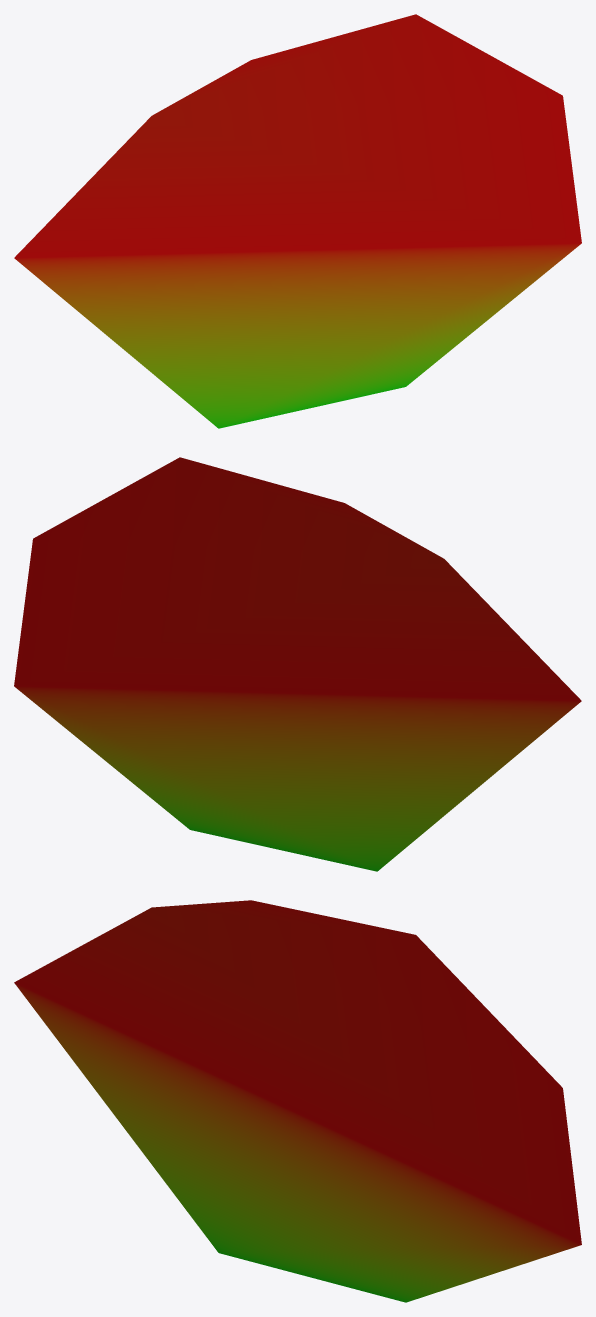
File: Var9_LOD4.fbx
The picture shows the model from 3 angles, top to bottom: view 1: azimuth 30°, elevation 25°; view 2: azimuth 150°, elevation 25°; view 3: azimuth 330°, elevation 25°; orthographic projection.
Parts seen in each view (by area): view 1: _opu4_Var9_LOD4; view 2: _opu4_Var9_LOD4; view 3: _opu4_Var9_LOD4.
Boxes of the visible parts, x1,y1,x2,y2 form: _opu4_Var9_LOD4: (14, 14, 581, 428); _opu4_Var9_LOD4: (14, 457, 581, 871); _opu4_Var9_LOD4: (14, 900, 581, 1302).
Bounding box in the file's own units: 47.38 × 29.51 × 1.89e-06.
